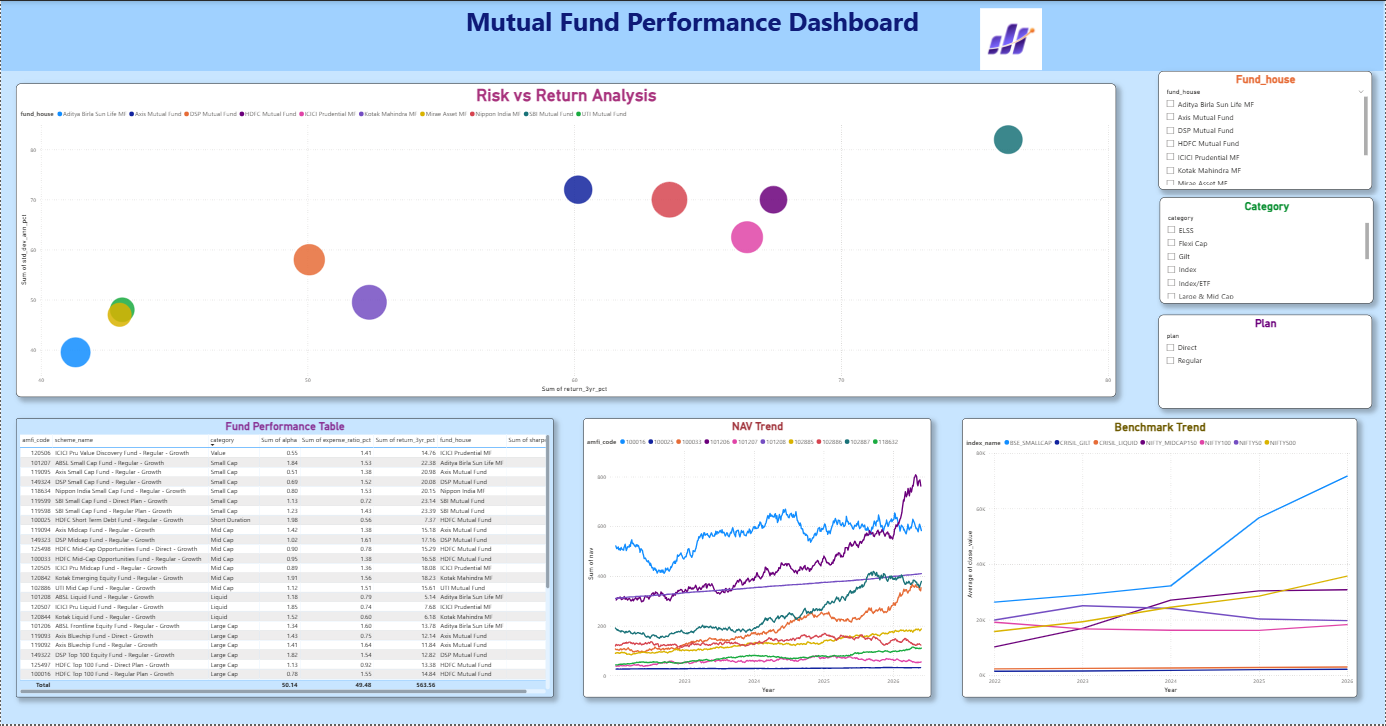

Layout of this report page (visuals, bound fields, positions):
{"tool":"powerbi","page":{"name":"Fund Performance","canvas":[3022,1580],"ordinal":1},"visuals":[{"type":"textbox","box":[0,0,3019.2,152.9],"z":0},{"type":"slicer","title":"Fund_house","fields":{"Values":["clean_03_aum_by_fund_house.fund_house"]},"box":[2527.8,152.9,466.8,259.3],"z":1000},{"type":"slicer","title":"Category","fields":{"Values":["clean_scheme_performance.category"]},"box":[2530.5,428.6,466.8,232],"z":2000},{"type":"slicer","title":"Plan","fields":{"Values":["clean_01_fund_master.plan"]},"box":[2527.8,685.2,466.8,204.7],"z":3000},{"type":"scatterChart","title":"Risk vs Return Analysis","fields":{"X":["Sum(clean_scheme_performance.return_3yr_pct)"],"Y":["Sum(clean_scheme_performance.std_dev_ann_pct)"],"Series":["clean_scheme_performance.fund_house"],"Size":["Sum(clean_scheme_performance.aum_crore)"]},"box":[32.8,180.2,2402.2,685.2],"z":4000},{"type":"tableEx","title":"Fund Performance Table ","fields":{"Values":["clean_scheme_performance.amfi_code","clean_scheme_performance.scheme_name","clean_scheme_performance.category","Sum(clean_scheme_performance.alpha)","Sum(clean_scheme_performance.expense_ratio_pct)","Sum(clean_scheme_performance.return_3yr_pct)","clean_scheme_performance.fund_house","Sum(clean_scheme_performance.sharpe_ratio)"]},"box":[32.8,911.8,1173.8,608.7],"z":5000},{"type":"lineChart","title":"NAV Trend","fields":{"Category":["clean_nav_history.date.Variation.Date Hierarchy.Year","clean_nav_history.date.Variation.Date Hierarchy.Quarter","clean_nav_history.date.Variation.Date Hierarchy.Month","clean_nav_history.date.Variation.Date Hierarchy.Day"],"Y":["Sum(clean_nav_history.nav)"],"Series":["clean_nav_history.amfi_code"]},"box":[1272.1,911.8,758.9,608.7],"z":6000},{"type":"lineChart","title":"Benchmark Trend","fields":{"Category":["clean_10_benchmark_indices.date.Variation.Date Hierarchy.Year","clean_10_benchmark_indices.date.Variation.Date Hierarchy.Quarter","clean_10_benchmark_indices.date.Variation.Date Hierarchy.Month","clean_10_benchmark_indices.date.Variation.Date Hierarchy.Day"],"Y":["Avg(clean_10_benchmark_indices.close_value)"],"Series":["clean_10_benchmark_indices.index_name"]},"box":[2099.2,911.8,862.6,608.7],"z":7000},{"type":"image","box":[2030,10,350,145],"z":7001}]}

Visuals, with their boxes in screenshot pixels (x1, y1, x2, y2), scaled from the page's 3022x1580 canvas onto the 1386x726 screenshot:
textbox: 0, 0, 1385, 70
"Fund_house" slicer: 1159, 70, 1373, 189
"Category" slicer: 1161, 197, 1375, 304
"Plan" slicer: 1159, 315, 1373, 409
"Risk vs Return Analysis" scatterChart: 15, 83, 1117, 398
"Fund Performance Table " tableEx: 15, 419, 553, 699
"NAV Trend" lineChart: 583, 419, 931, 699
"Benchmark Trend" lineChart: 963, 419, 1358, 699
image: 931, 5, 1092, 71
